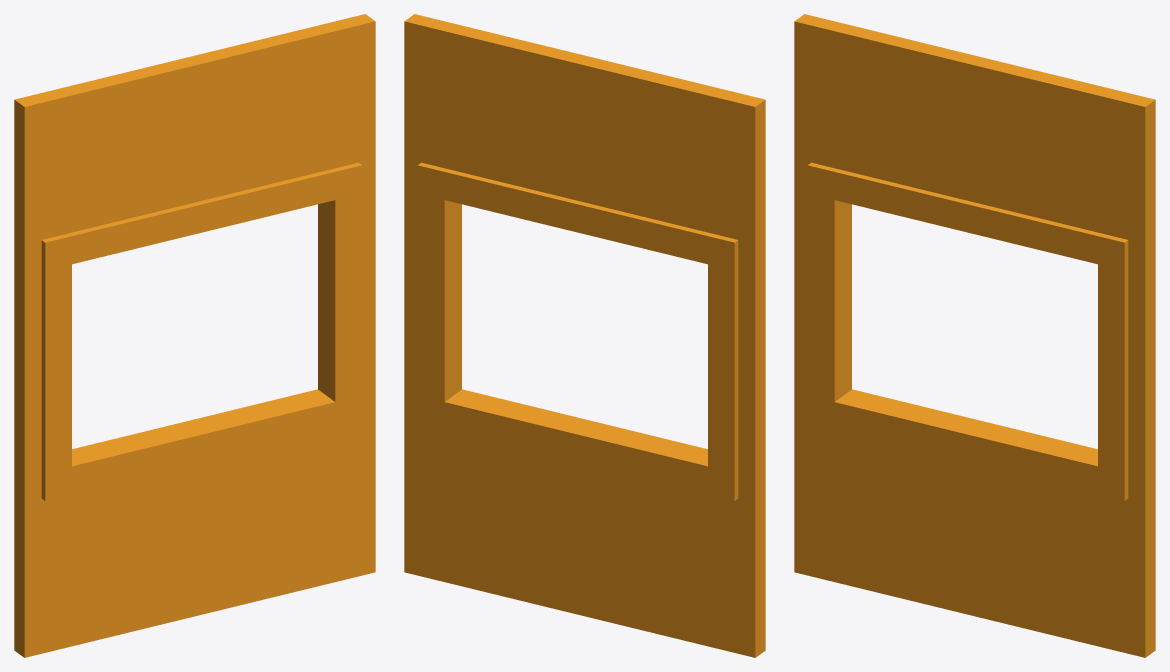
The model's file is SM_Buildings_WallWindowDouble_2x3_01.fbx.
3 views of the same model, side by side, from view 1: azimuth 30°, elevation 25°; view 2: azimuth 150°, elevation 25°; view 3: azimuth 330°, elevation 25° (orthographic).
Parts seen in each view (by area): view 1: SM_Buildings_WallWindowDouble_2x3_01; view 2: SM_Buildings_WallWindowDouble_2x3_01; view 3: SM_Buildings_WallWindowDouble_2x3_01.
Part boxes in pixels (<box>): SM_Buildings_WallWindowDouble_2x3_01: <box>14,14,375,657</box>; SM_Buildings_WallWindowDouble_2x3_01: <box>404,14,765,657</box>; SM_Buildings_WallWindowDouble_2x3_01: <box>794,14,1155,657</box>.
Size of the model in its own units: 200 by 300 by 17.29.
